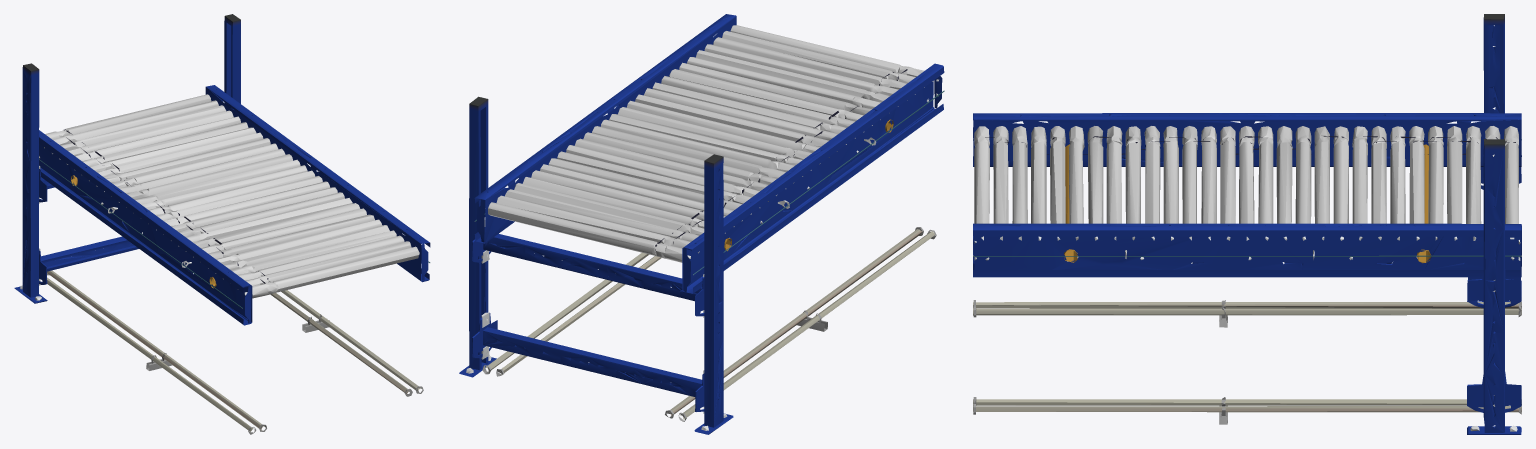
Rendered from conveyor.glb.
The picture shows the model from 3 angles, left to right: view 1: azimuth 30°, elevation 25°; view 2: azimuth 150°, elevation 25°; view 3: azimuth 270°, elevation 25°; orthographic projection. The views are drawn at different scales.
Visible parts, largest first — view 1: body; view 2: body; view 3: body.
Boxes of the visible parts, left/top/right/bottom form: body: left=14, top=14, right=430, bottom=434; body: left=459, top=14, right=944, bottom=434; body: left=973, top=14, right=1521, bottom=434.
Bounding box in the file's own units: 1.15 × 1.17 × 2.
